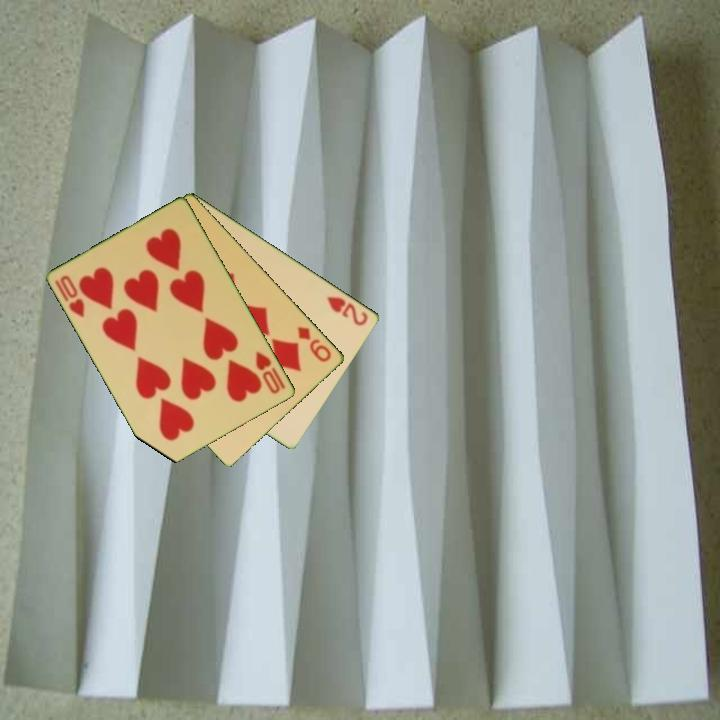10h: (252, 348, 289, 397), (51, 272, 88, 321)
2h: (324, 293, 371, 329)
9d: (294, 323, 334, 365)
